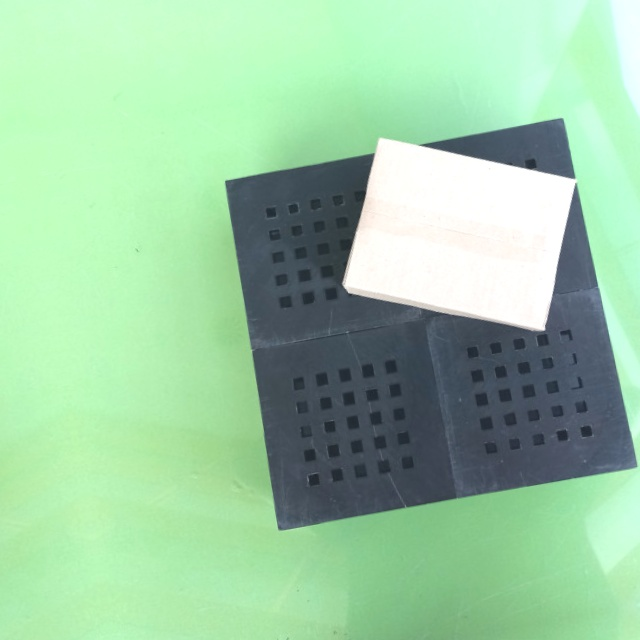box: (337, 130, 577, 338)
pallet: (219, 118, 636, 542)
